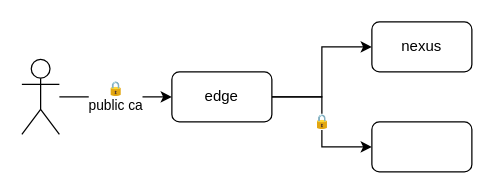
This 494x194 diagram has some shape labels left out. Here are the shapes that lost their labels. From the top down, the centre of each, then its label:
the point at 40,96: User
the point at 421,146: kubernetes api-server
